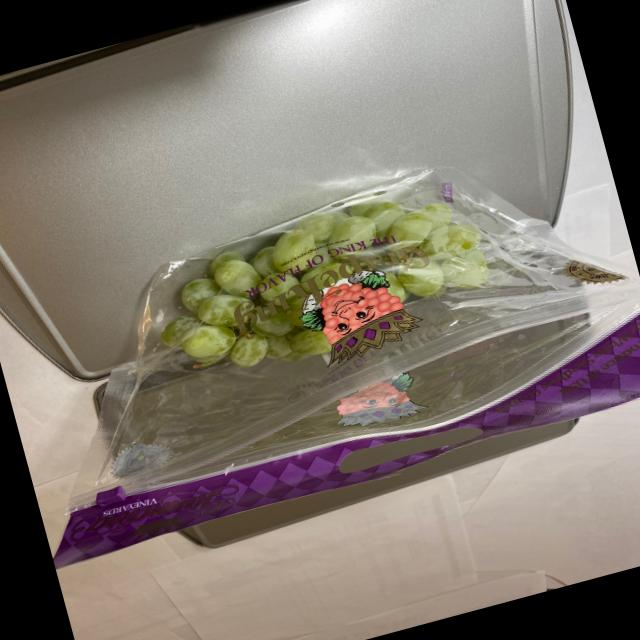grapes: (138, 169, 524, 391)
